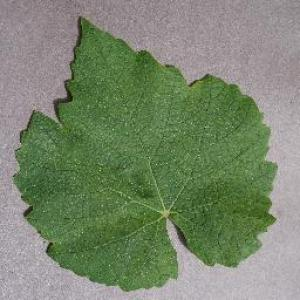Folha: (10, 15, 278, 292)
